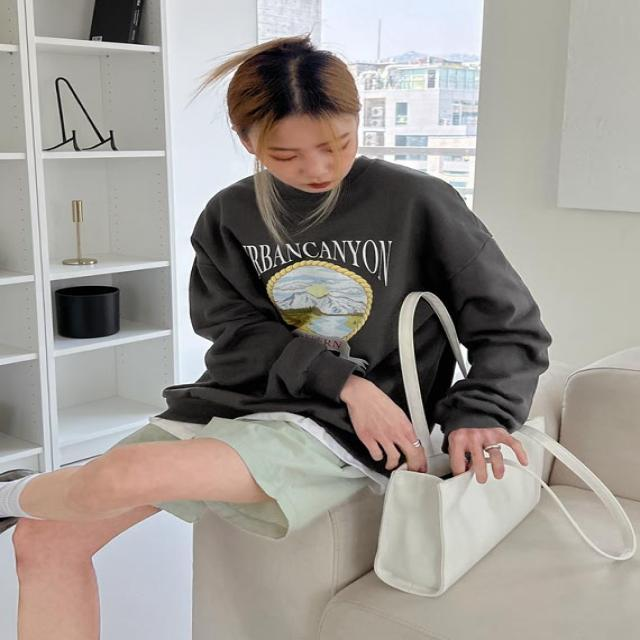Shorts: (93, 415, 378, 546)
sweater: (154, 158, 553, 480)
